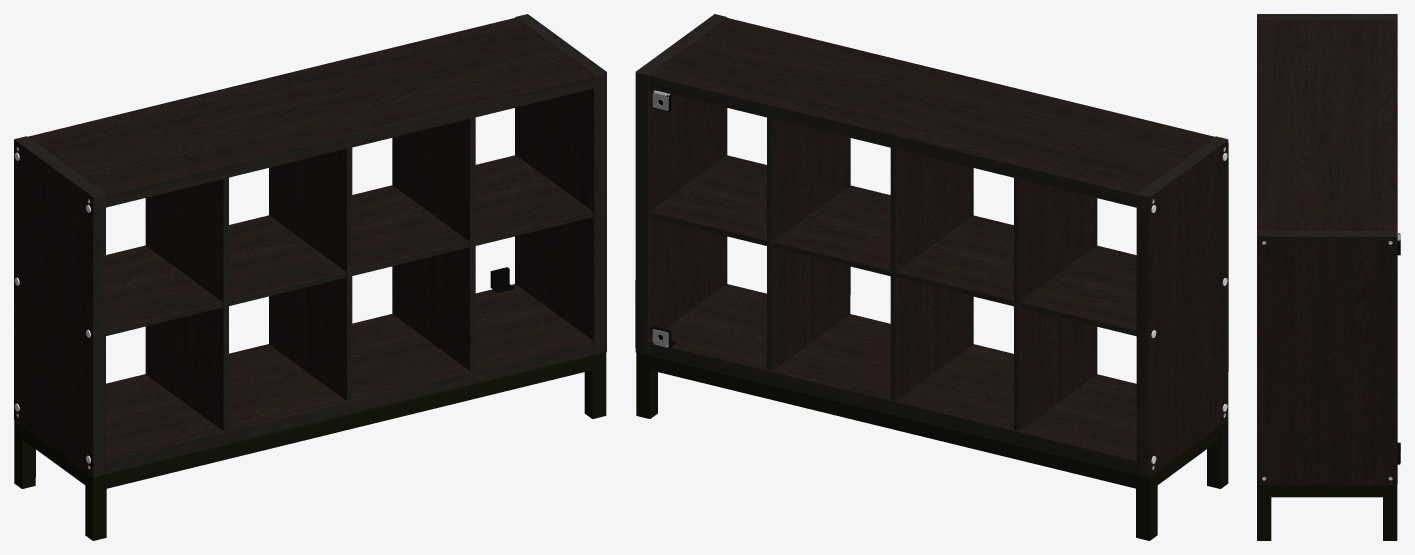
Rendered from KALLAX_09442678.glb.
The picture shows the model from 3 angles, left to right: view 1: azimuth 30°, elevation 25°; view 2: azimuth 150°, elevation 25°; view 3: azimuth 270°, elevation 25°; orthographic projection. The views are drawn at different scales.
Visible parts, largest first — view 1: model, 00501889-KALLAX001; view 2: model, 00501889-KALLAX001; view 3: model, 00501889-KALLAX001.
Boxes of the visible parts, x1,y1,x2,y2 form: model: (14,14,606,477); 00501889-KALLAX001: (14,352,606,540); model: (635,14,1228,477); 00501889-KALLAX001: (636,352,1228,540); model: (1257,14,1400,484); 00501889-KALLAX001: (1257,485,1397,540).
Bounding box in the file's own units: 1.47 × 0.9415 × 0.401.
Materials: 2 (2 with a texture image).
